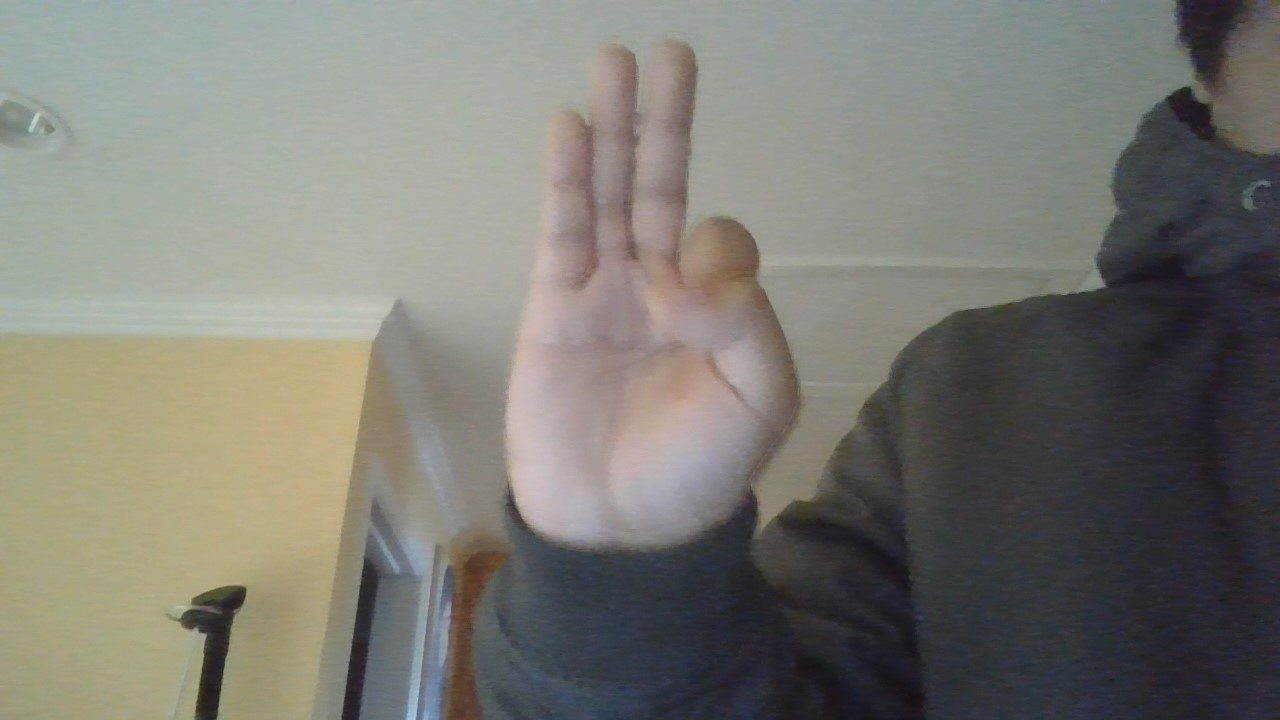f: (477, 24, 816, 579)
